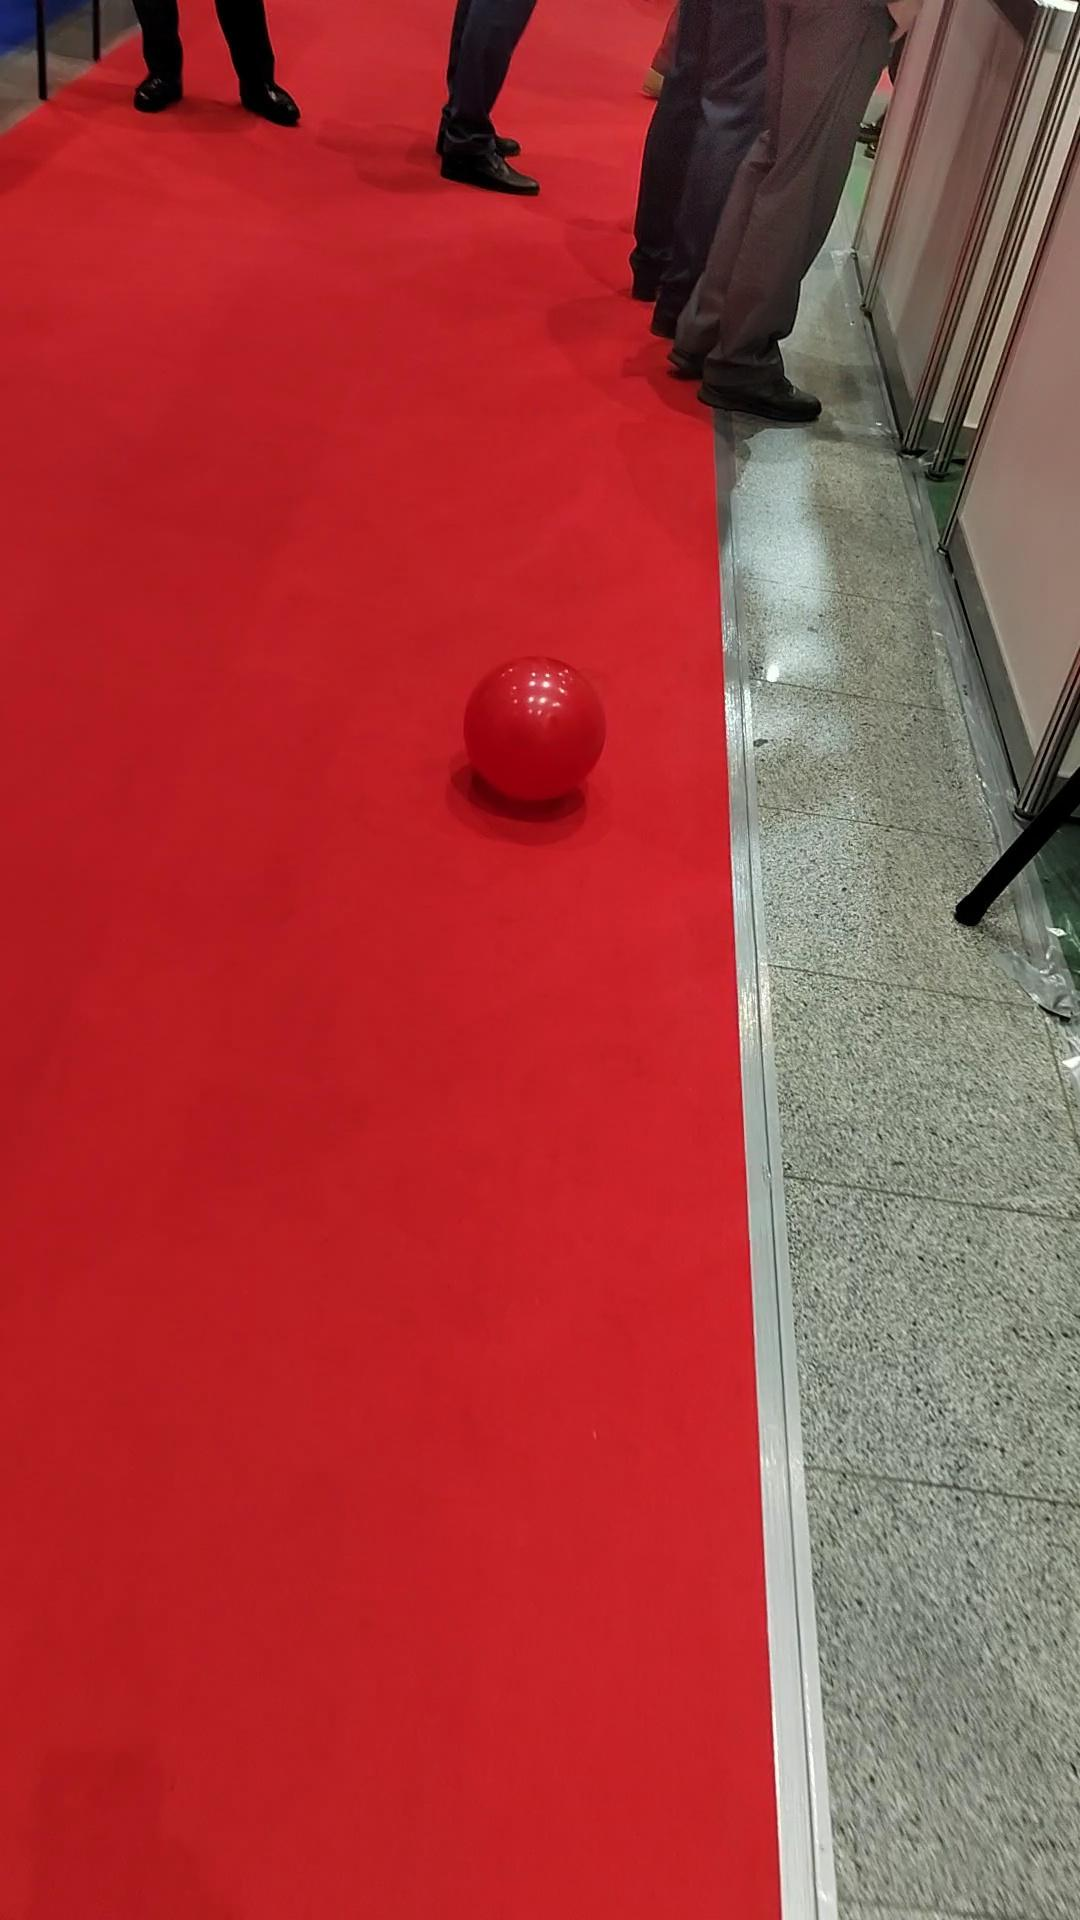red: (462, 655, 607, 803)
